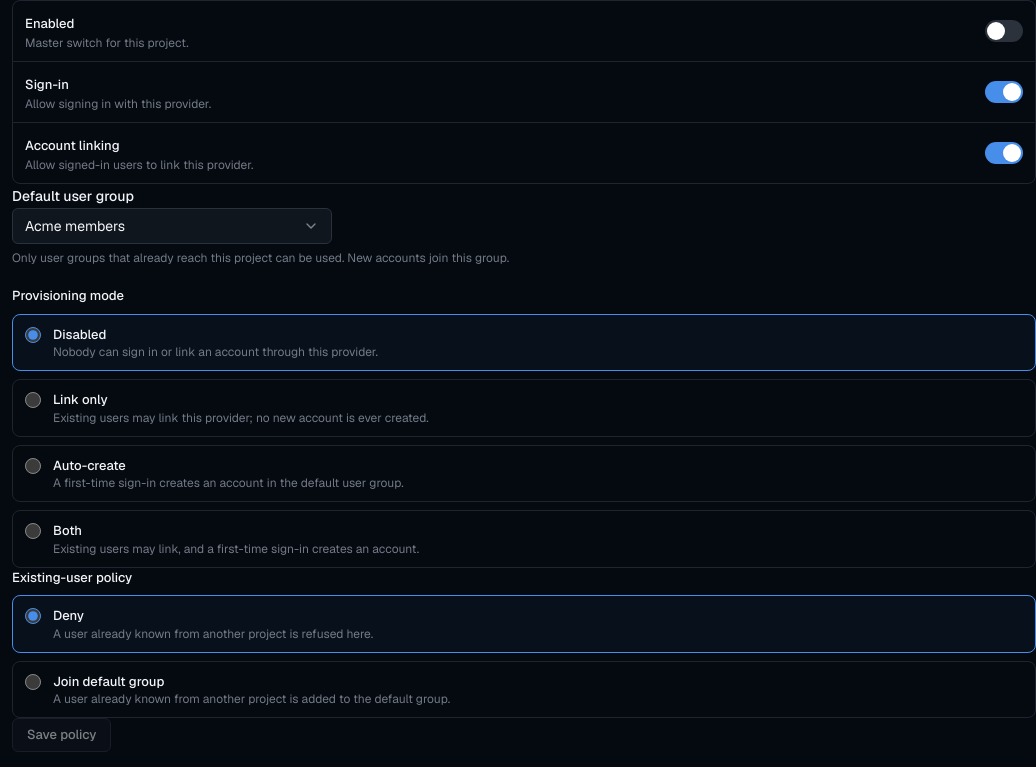
Test case: OAuthBindingEditor existing-user policy › warns when "join default group" is selected
Click the radio button labelled "Join default group" at (33, 682), box [25,674,41,690]
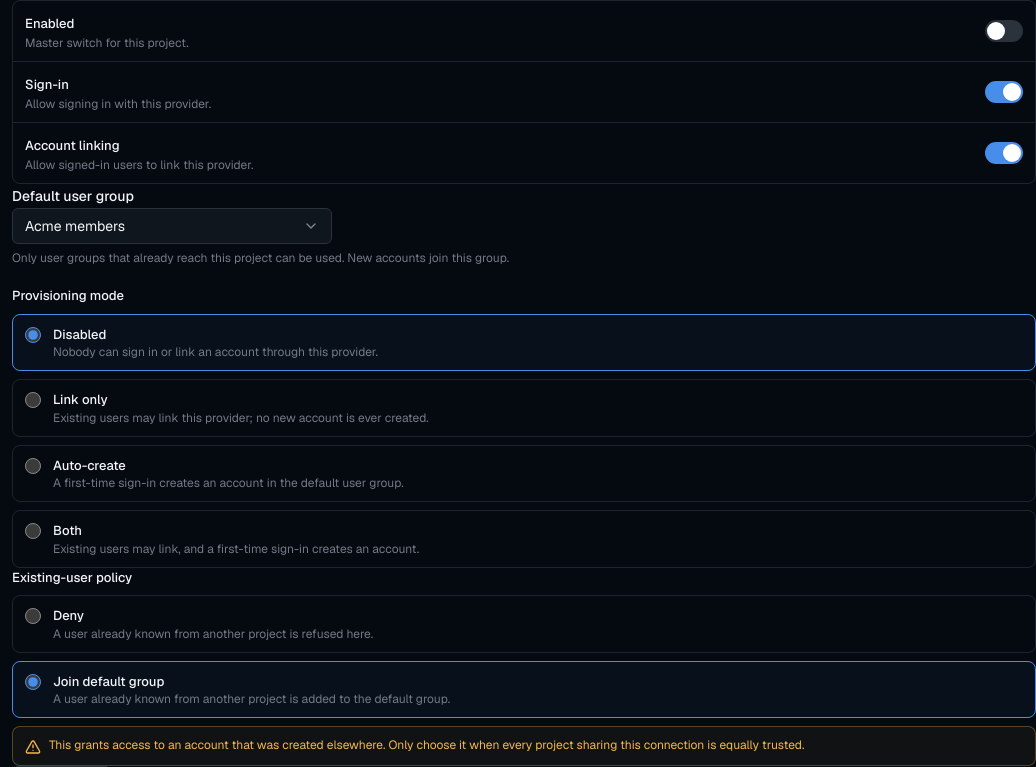
Result: the message shows "grants access to an account that was created elsewhere" at [49,737,804,753]
